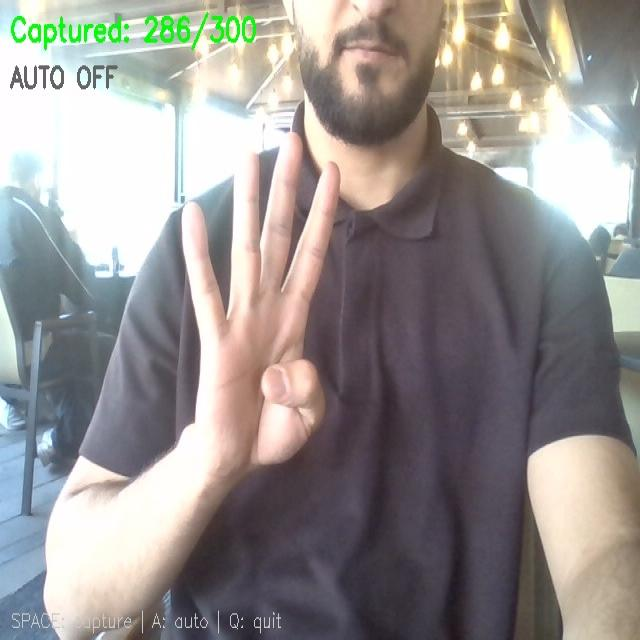Hand: (182, 134, 339, 478)
